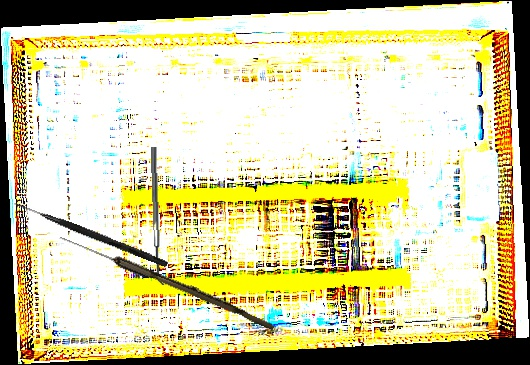Hook Surgical: (12, 200, 169, 268)
Spatula Surgical: (150, 146, 167, 286)
Surgical Spoon: (57, 232, 277, 331)
